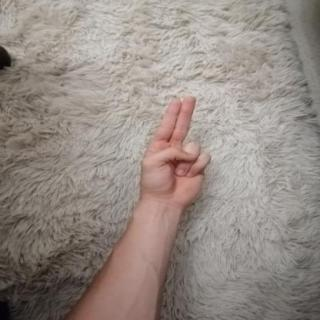TA: (127, 90, 220, 210)
